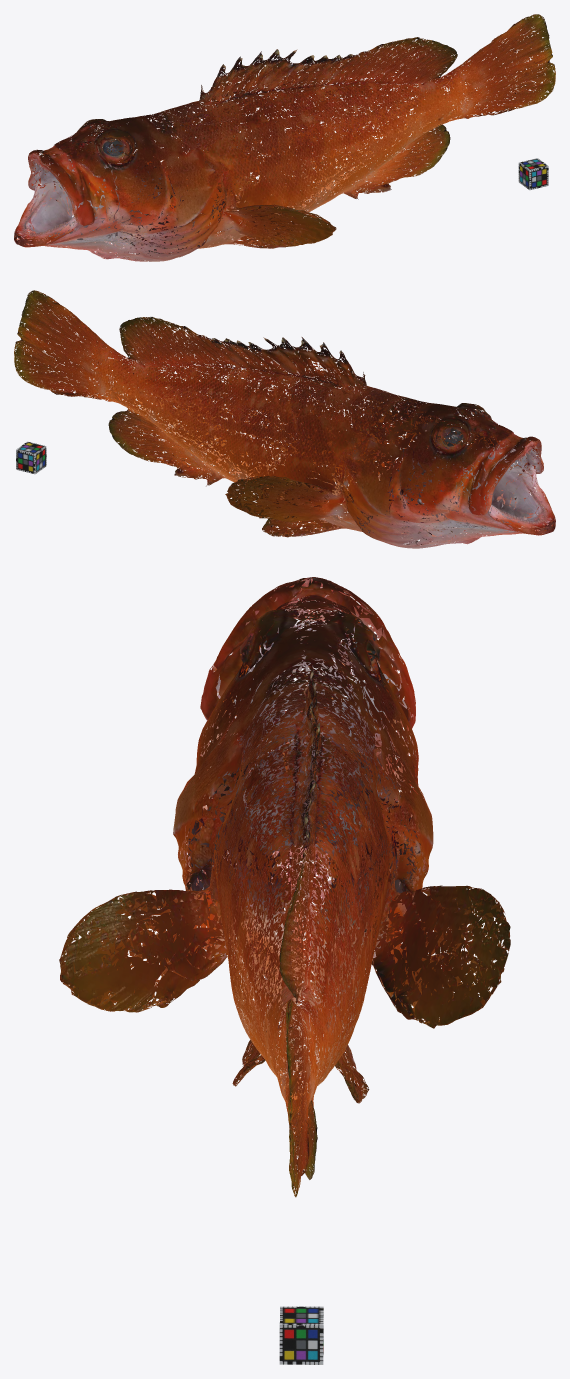
Rendered from scan_blacktip.glb.
3 renders of one model, top to bottom at view 1: azimuth 30°, elevation 25°; view 2: azimuth 150°, elevation 25°; view 3: azimuth 270°, elevation 25°, orthographic. The views are drawn at different scales.
Parts seen in each view (by area): view 1: Object_6, Object_12, Object_19, Object_4; view 2: Object_6, Object_12, Object_19, Object_4; view 3: Object_19, Object_6, Object_12, Object_4.
Boxes of the visible parts, x1,y1,x2,y2 form: Object_6: (14,14,555,261); Object_12: (14,15,555,260); Object_19: (14,14,555,261); Object_4: (518,158,548,190); Object_6: (14,290,553,548); Object_12: (14,290,555,544); Object_19: (14,290,555,547); Object_4: (16,441,46,474); Object_19: (59,577,510,1197); Object_6: (61,577,507,1195); Object_12: (59,578,507,1193); Object_4: (279,1306,323,1364).
Bounding box in the file's own units: 11.9 × 4.18 × 4.34.
Materials: 4 (4 with a texture image).
